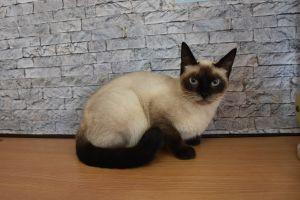siamese: (172, 36, 241, 111)
